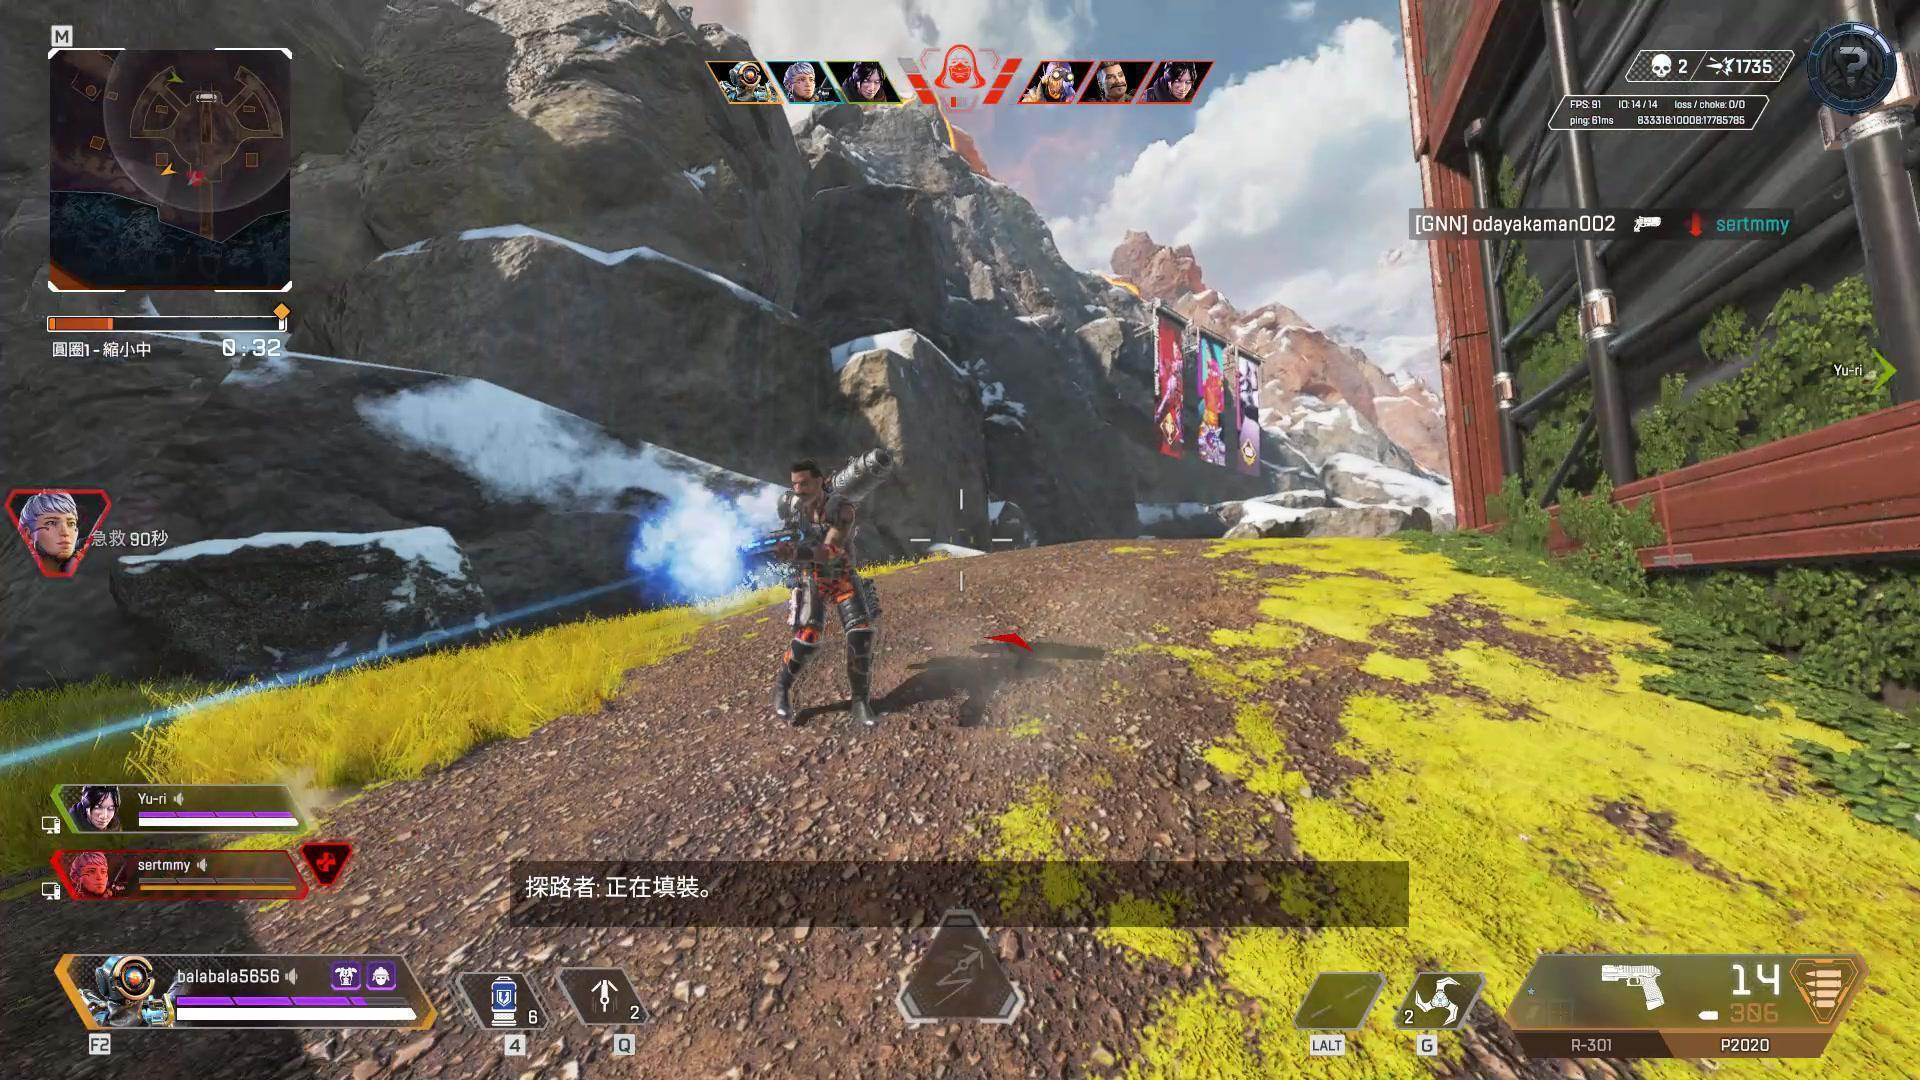avatar: (768, 459, 884, 730)
